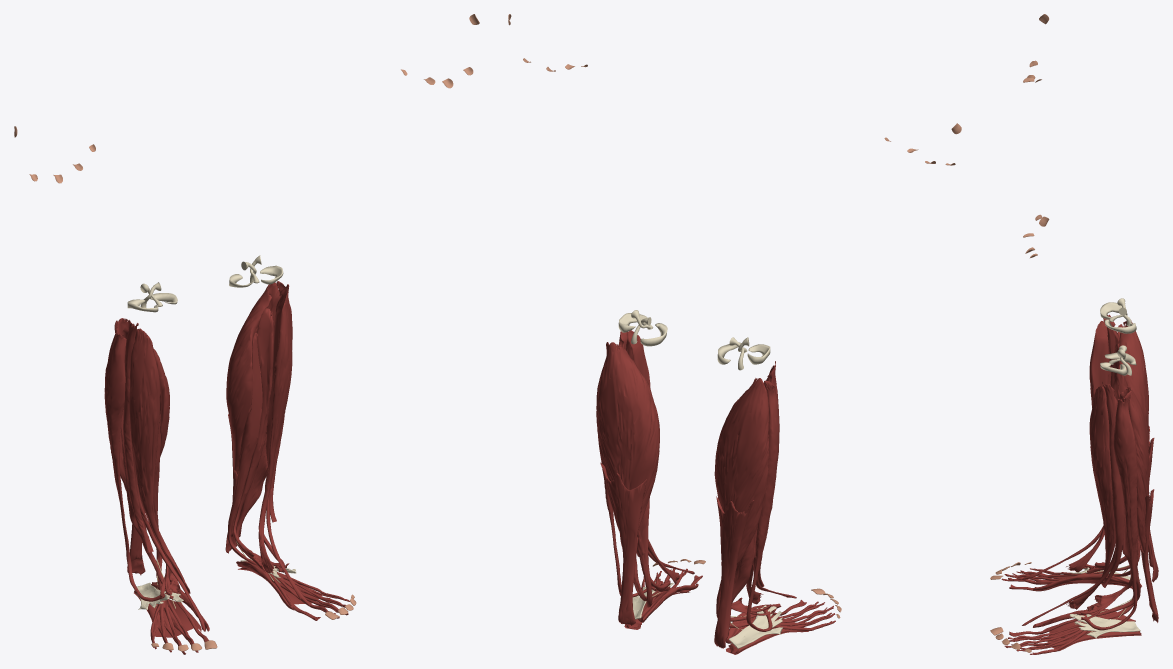
The model's file is joints-detail.glb.
3 renders of one model, left to right at view 1: azimuth 30°, elevation 25°; view 2: azimuth 150°, elevation 25°; view 3: azimuth 270°, elevation 25°, orthographic. The views are drawn at different scales.
Visible parts, largest first — view 1: tibialis_anterior_r, tibialis_anterior_l, soleus_l, flexor_toes_l, fibularis_longus_r, tibialis_posterior_l, extensor_toes_r, flexor_toes_r, soleus_r, flexor_hallucis_l, flexor_hallucis_r, extensor_hallucis_r; view 2: soleus_l, soleus_r, achilles_l, achilles_r, fibularis_longus_r, flexor_toes_l, flexor_hallucis_r, plantar_ligament_r, flexor_toes_r, tibialis_anterior_l, flexor_brevis_r, fibularis_longus_l; view 3: fibularis_longus_l, tibialis_anterior_l, soleus_l, extensor_toes_l, soleus_r, tibialis_anterior_r, flexor_toes_l, flexor_hallucis_l, achilles_l, plantar_ligament_l, flexor_brevis_l, flexor_toes_r (+10 smaller).
Part boxes in pixels (x1=…): tibialis_anterior_r: x1=129, y1=328, x2=190, y2=593; tibialis_anterior_l: x1=258, y1=292, x2=292, y2=573; soleus_l: x1=226, y1=282, x2=280, y2=474; flexor_toes_l: x1=228, y1=333, x2=349, y2=618; fibularis_longus_r: x1=104, y1=320, x2=173, y2=601; tibialis_posterior_l: x1=233, y1=308, x2=289, y2=570; extensor_toes_r: x1=123, y1=322, x2=153, y2=552; flexor_toes_r: x1=150, y1=411, x2=198, y2=654; soleus_r: x1=108, y1=318, x2=169, y2=491; flexor_hallucis_l: x1=235, y1=434, x2=320, y2=620; flexor_hallucis_r: x1=120, y1=408, x2=208, y2=642; extensor_hallucis_r: x1=132, y1=444, x2=205, y2=631; soleus_l: x1=597, y1=342, x2=659, y2=531; soleus_r: x1=714, y1=378, x2=768, y2=563; achilles_l: x1=600, y1=462, x2=646, y2=625; achilles_r: x1=714, y1=496, x2=754, y2=648; fibularis_longus_r: x1=746, y1=380, x2=779, y2=631; flexor_toes_l: x1=637, y1=497, x2=687, y2=607; flexor_hallucis_r: x1=730, y1=525, x2=806, y2=621; plantar_ligament_r: x1=728, y1=605, x2=783, y2=648; flexor_toes_r: x1=716, y1=580, x2=835, y2=630; tibialis_anterior_l: x1=626, y1=330, x2=679, y2=584; flexor_brevis_r: x1=728, y1=601, x2=834, y2=653; fibularis_longus_l: x1=596, y1=342, x2=663, y2=597; fibularis_longus_l: x1=1079, y1=391, x2=1137, y2=630; tibialis_anterior_l: x1=1066, y1=386, x2=1115, y2=609; soleus_l: x1=1119, y1=387, x2=1149, y2=551; extensor_toes_l: x1=1102, y1=381, x2=1125, y2=587; soleus_r: x1=1113, y1=321, x2=1149, y2=449; tibialis_anterior_r: x1=1066, y1=321, x2=1111, y2=572; flexor_toes_l: x1=1004, y1=566, x2=1138, y2=654; flexor_hallucis_l: x1=1009, y1=505, x2=1140, y2=636; achilles_l: x1=1140, y1=489, x2=1158, y2=622; plantar_ligament_l: x1=1069, y1=614, x2=1140, y2=638; flexor_brevis_l: x1=1008, y1=629, x2=1141, y2=654; flexor_toes_r: x1=1001, y1=536, x2=1138, y2=583.
Bounding box in the file's own units: 0.6801 × 0.773 × 0.2363.
